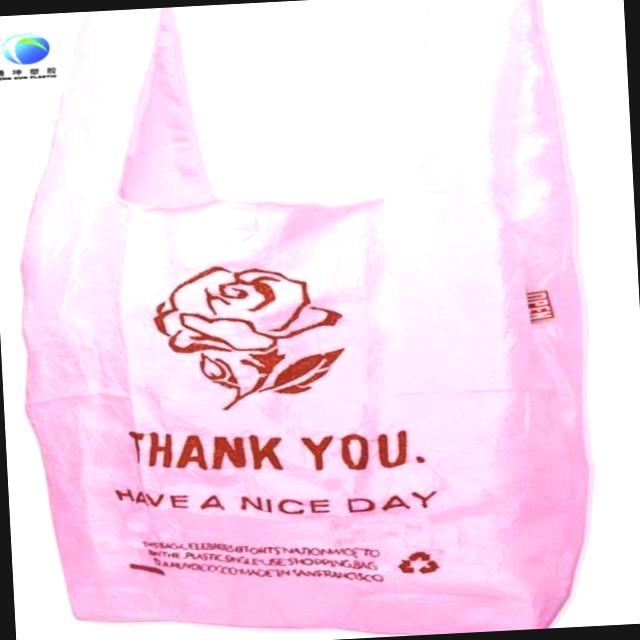Plastic: (1, 0, 617, 640)
